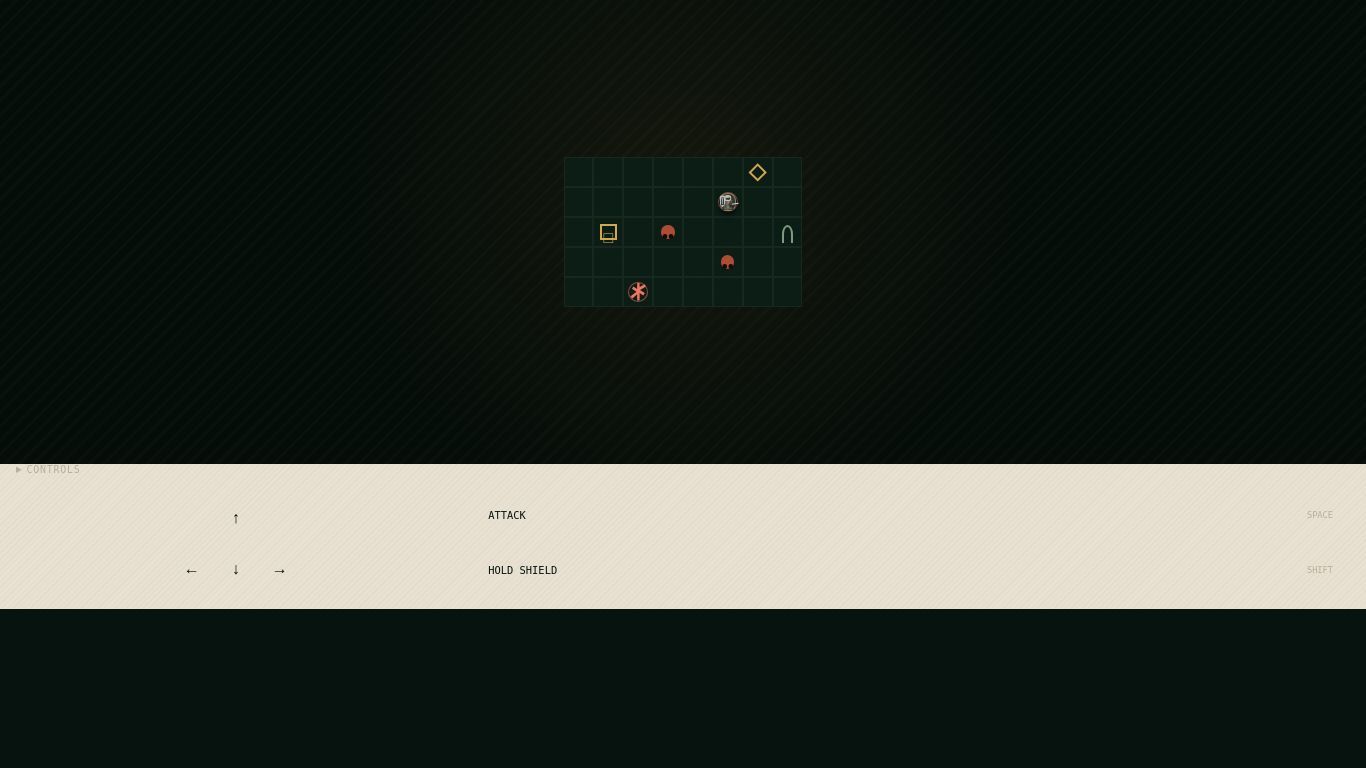
Scenario: Resonant Ruins dungeon grid › renders both shared hazard coordinates and preserves the rune beneath the player
The width and height of the screenshot is (1366, 768).
Expected: the number of elements with class "tile--hazard" is 2, [713,187,743,217]; [623,277,653,307]
Click the heading "Controls" at {"x": 54, "y": 469}, box [26,464,81,475]
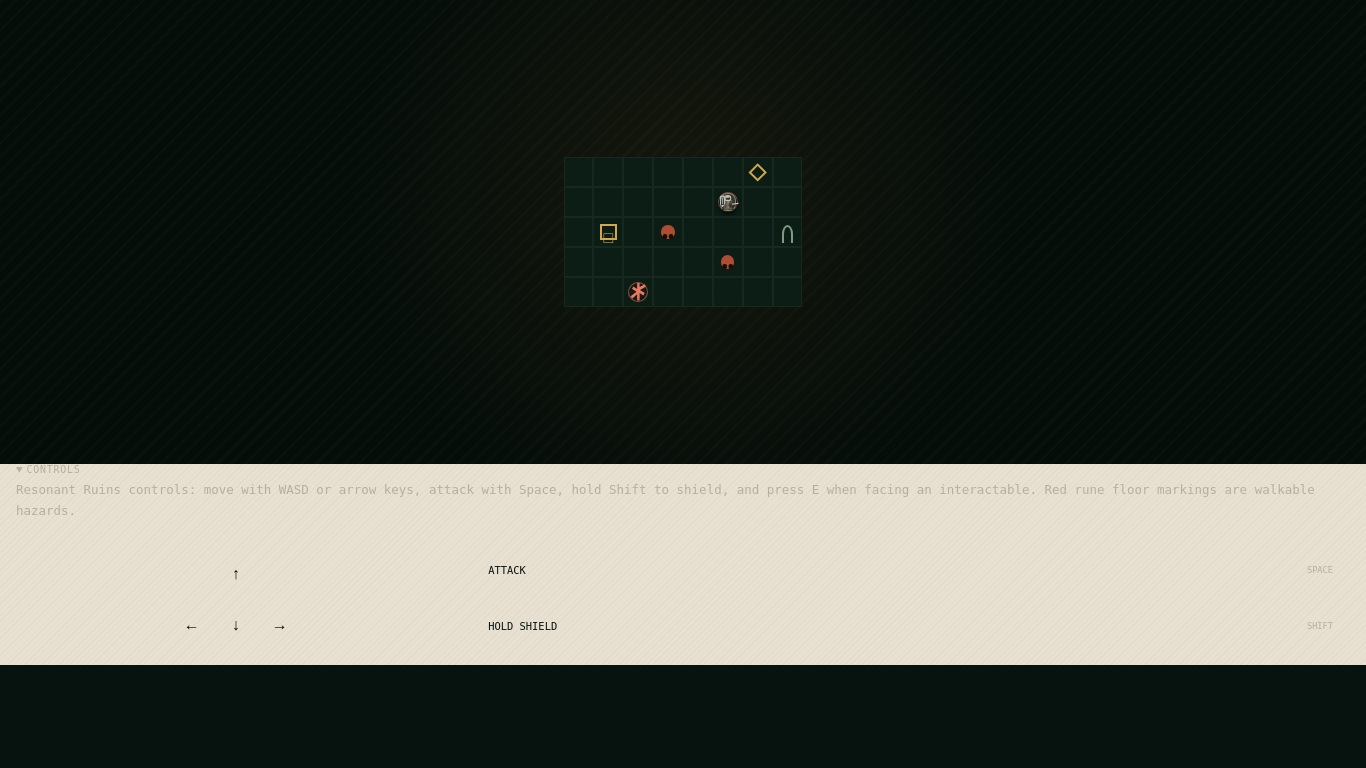
Result: the text "Red rune floor markings are walkable hazards" is shown at [16,482,1315,518]
